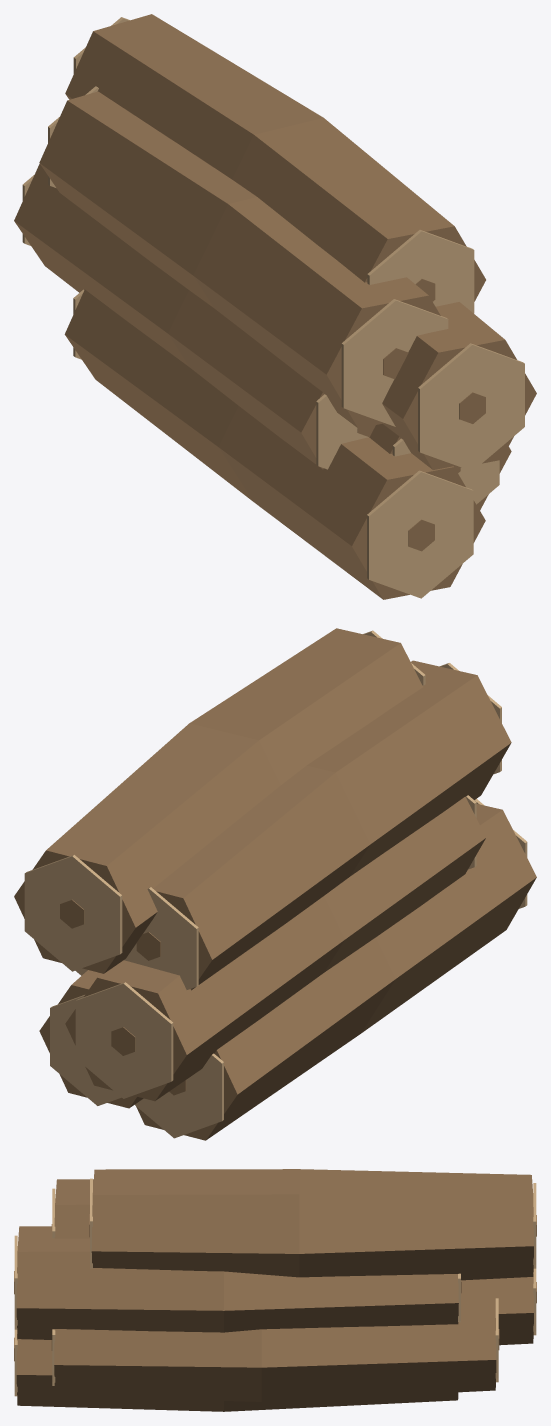
The model's file is item_000_log_l.glb.
3 views of the same model, one above another, from view 1: azimuth 30°, elevation 25°; view 2: azimuth 150°, elevation 25°; view 3: azimuth 270°, elevation 25° (orthographic). The views are drawn at different scales.
Visible parts, largest first — view 1: item_000_log_l; view 2: item_000_log_l; view 3: item_000_log_l.
Part boxes in pixels (box(x1,y1,x2,y2)): item_000_log_l: box(14, 14, 536, 599); item_000_log_l: box(14, 628, 536, 1140); item_000_log_l: box(14, 1169, 536, 1411).
Bounding box in the file's own units: 0.2661 × 0.4156 × 0.834.
